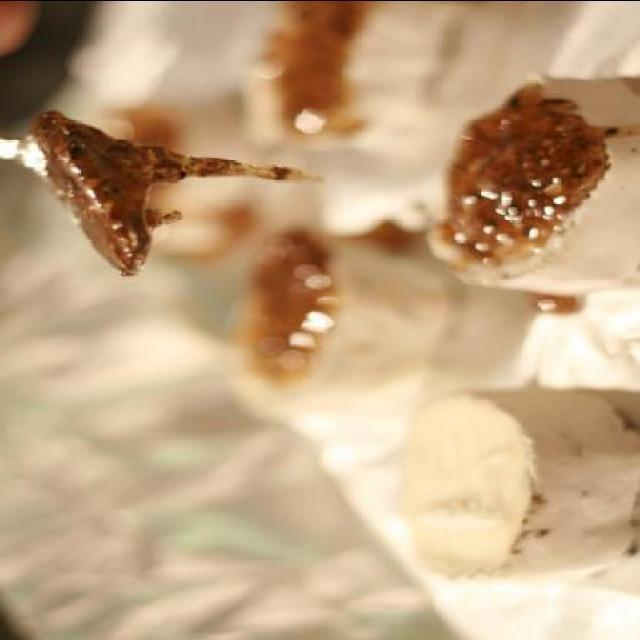Ice cream: (383, 384, 639, 586), (417, 71, 640, 300), (217, 224, 468, 426), (230, 0, 481, 156)
